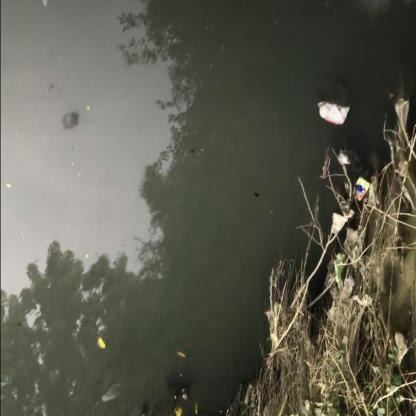Trash: (313, 95, 350, 127), (348, 175, 381, 206)
